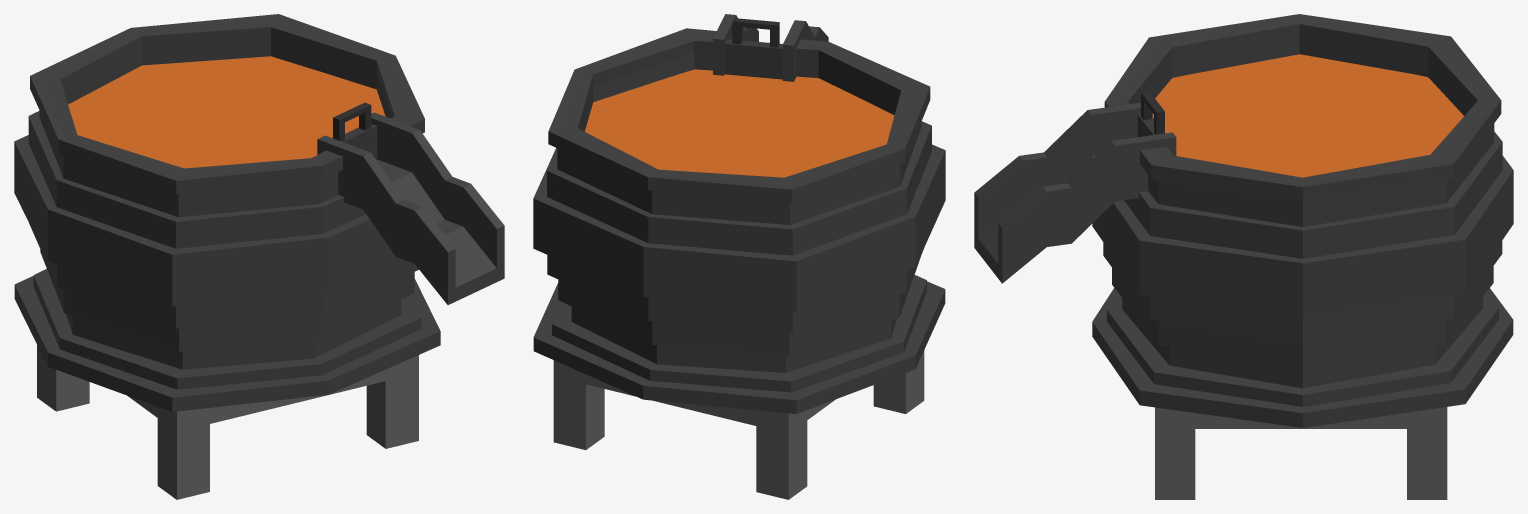
The model's file is boiler_level_2.fbx.
3 renders of one model, left to right at view 1: azimuth 30°, elevation 25°; view 2: azimuth 150°, elevation 25°; view 3: azimuth 270°, elevation 25°, orthographic. The views are drawn at different scales.
Visible parts, largest first — view 1: Cube.012, Cube.008; view 2: Cube.012, Cube.008; view 3: Cube.012, Cube.008.
Part boxes in pixels (x1=…): Cube.012: x1=14, y1=14, x2=504, y2=499; Cube.008: x1=333, y1=102, x2=377, y2=159; Cube.012: x1=533, y1=14, x2=945, y2=499; Cube.008: x1=725, y1=18, x2=782, y2=79; Cube.012: x1=974, y1=14, x2=1513, y2=499; Cube.008: x1=1137, y1=91, x2=1164, y2=136.
Size of the model in its own units: 159 by 146 by 196.
